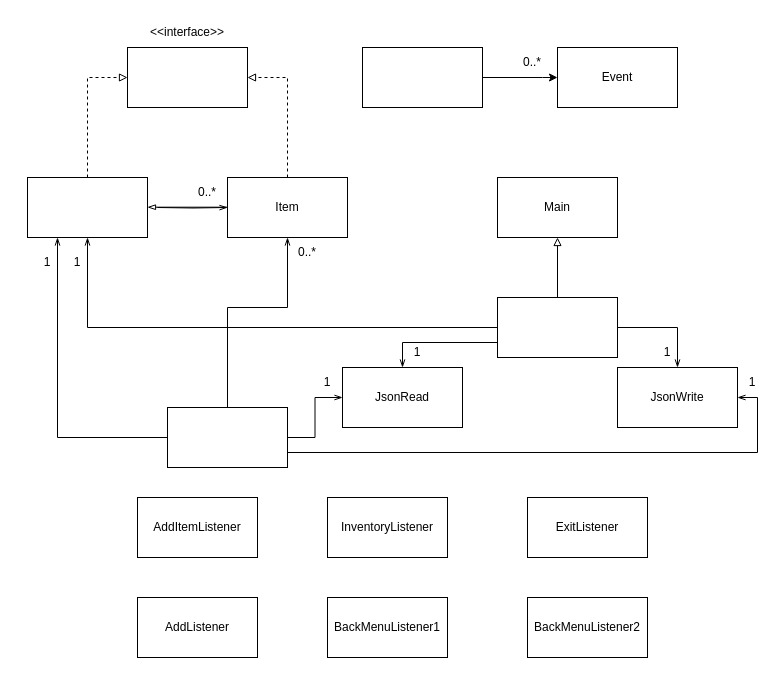
Image size: 784x675. Some labels were removed from this diagram. The centre of each missing label's shape, as x and y in pixels:
"EventLog" belongs at (422,77).
"MachineGUI" belongs at (227,437).
"VendingMachine" belongs at (87,207).
"VendingMachineApp" belongs at (557,327).
"Writable" belongs at (187,77).
